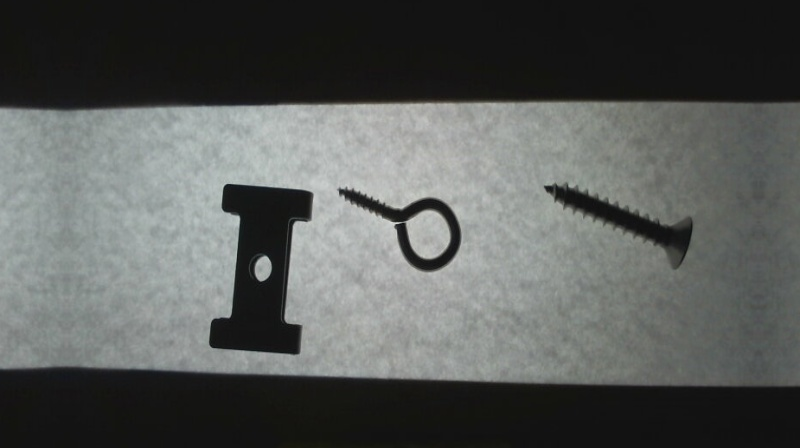O001: (335, 182, 466, 273)
O002: (204, 176, 314, 356)
S001: (539, 177, 694, 271)
